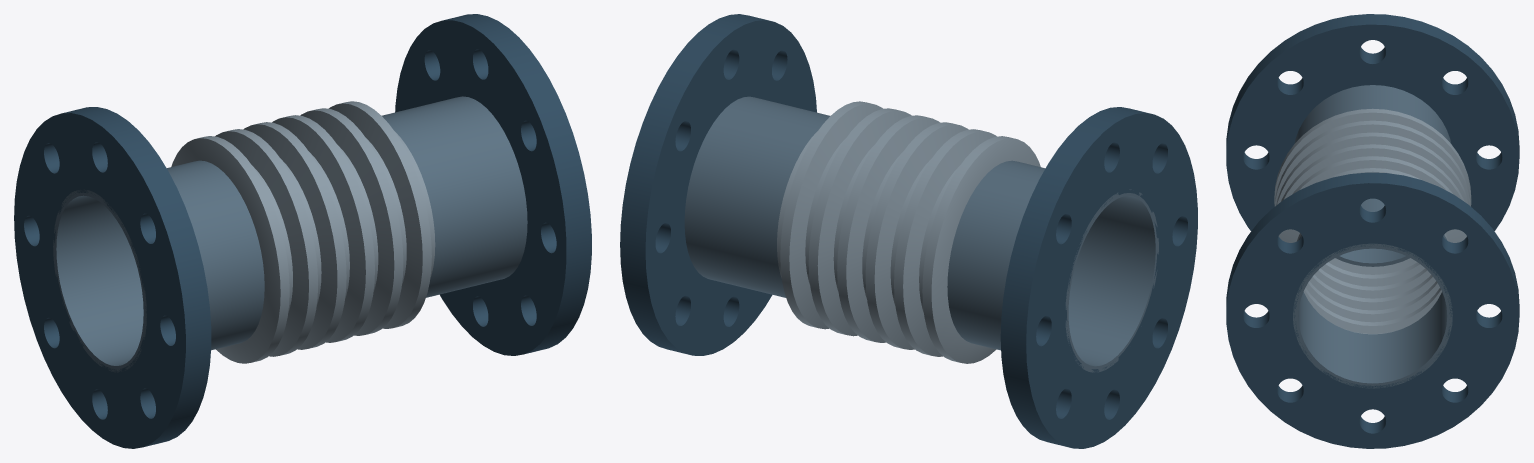
Rendered from flan-dn100-L270-D108-f-o215.glb.
3 renders of one model, left to right at view 1: azimuth 30°, elevation 25°; view 2: azimuth 150°, elevation 25°; view 3: azimuth 270°, elevation 25°, orthographic. The views are drawn at different scales.
Visible parts, largest first — view 1: prokladka_silfon_1, homut_flanec_1, homut_flanec_2, patrubok_1, patrubok_2; view 2: prokladka_silfon_1, homut_flanec_1, homut_flanec_2, patrubok_1, patrubok_2; view 3: homut_flanec_2, homut_flanec_1, prokladka_silfon_1, patrubok_2, patrubok_1.
Boxes of the visible parts, box(x1,y1,x2,y2) form: prokladka_silfon_1: box(171, 101, 435, 363); homut_flanec_1: box(14, 107, 211, 448); homut_flanec_2: box(395, 14, 591, 355); patrubok_1: box(53, 160, 264, 372); patrubok_2: box(382, 96, 527, 297); prokladka_silfon_1: box(777, 101, 1040, 363); homut_flanec_1: box(1000, 107, 1197, 448); homut_flanec_2: box(620, 14, 816, 355); patrubok_1: box(947, 160, 1158, 372); patrubok_2: box(684, 96, 829, 297); homut_flanec_2: box(1226, 172, 1519, 448); homut_flanec_1: box(1226, 14, 1519, 230); prokladka_silfon_1: box(1274, 108, 1471, 334); patrubok_2: box(1293, 198, 1452, 388); patrubok_1: box(1294, 85, 1451, 266).
Size of the model in its own units: 270 by 198 by 198.
